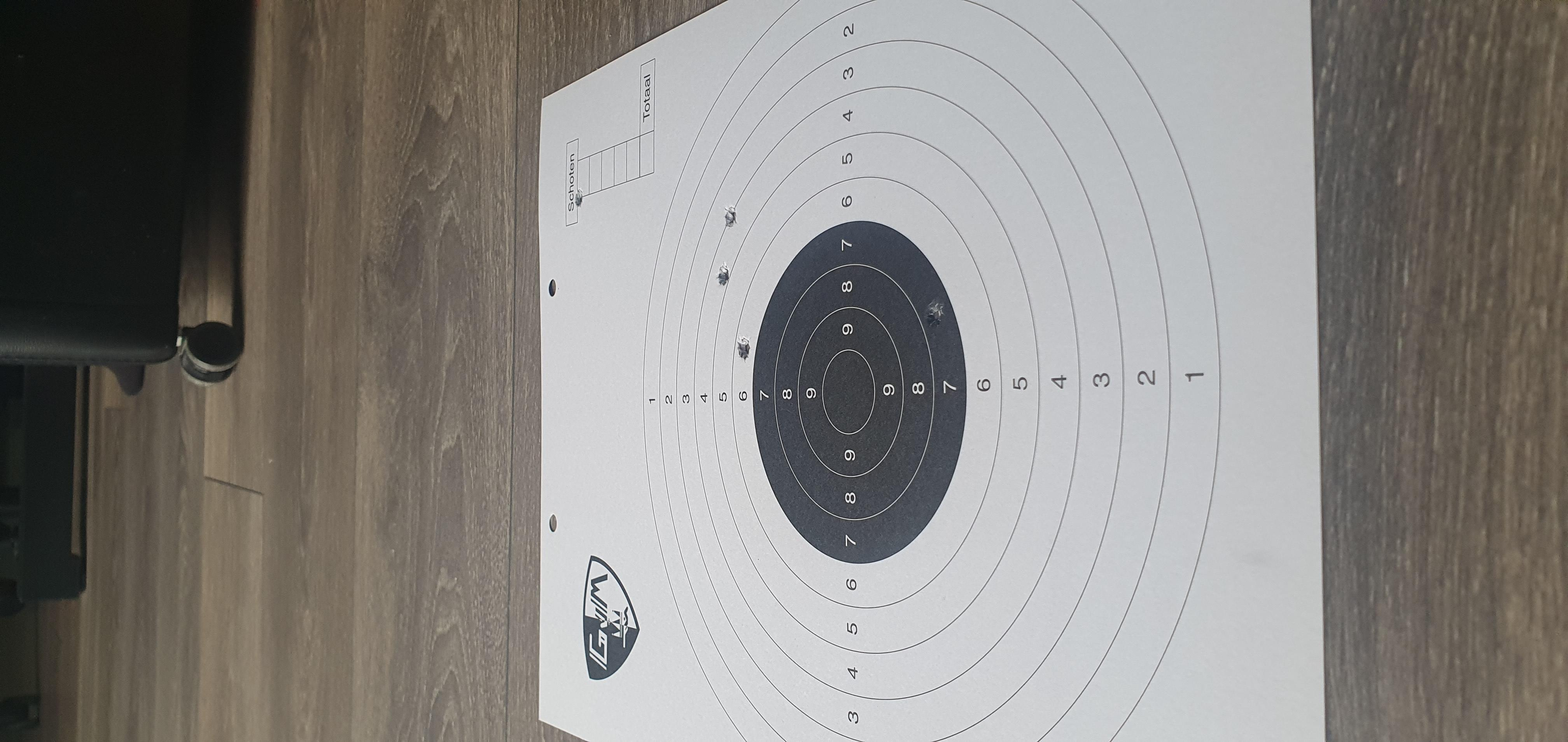hole: (872, 437, 936, 447), (801, 348, 860, 356), (964, 338, 1016, 345), (1082, 342, 1130, 349), (1127, 272, 1170, 276)
